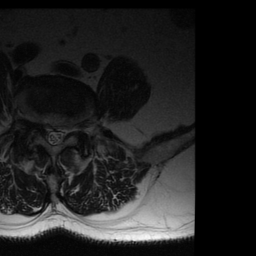CCS_normal: (52, 121, 58, 150)
LFS_stenosis: (67, 117, 74, 140)
LLS_normal: (58, 121, 66, 146)
RFS_severe_stenosis: (36, 115, 45, 137)
RLS_normal: (45, 120, 52, 144)
